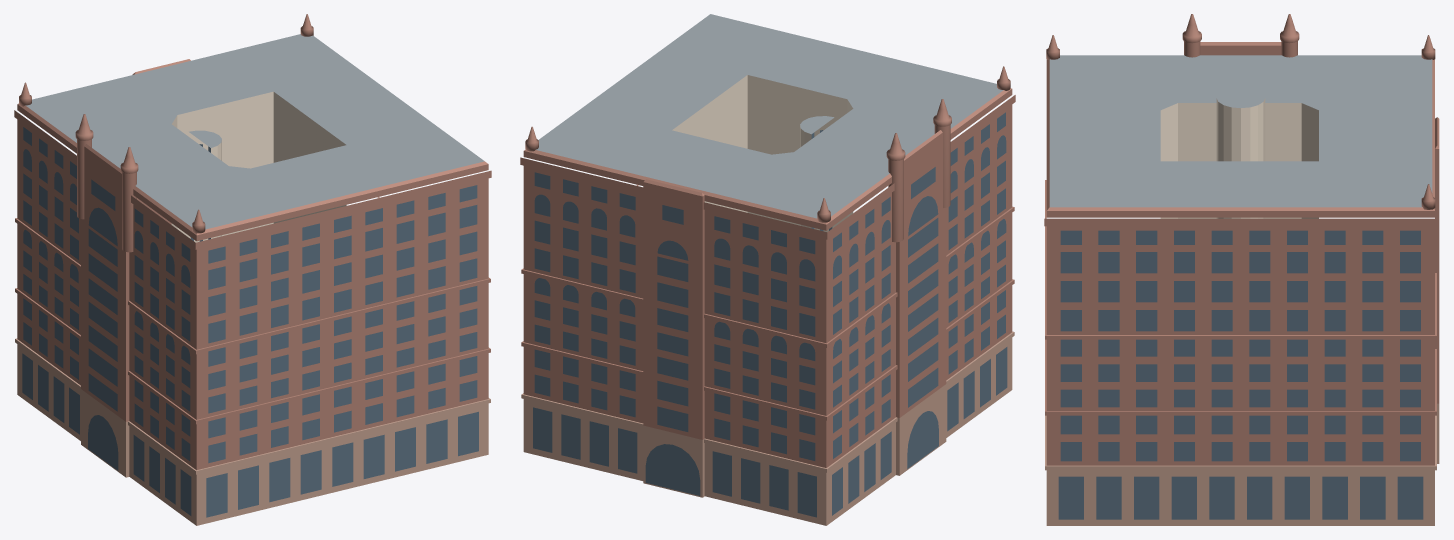
File: chi-rookery.glb
The picture shows the model from 3 angles, left to right: view 1: azimuth 30°, elevation 25°; view 2: azimuth 150°, elevation 25°; view 3: azimuth 270°, elevation 25°; orthographic projection. The views are drawn at different scales.
Visible parts, largest first — view 1: The Rookery; view 2: The Rookery; view 3: The Rookery.
Part boxes in pixels (<box>): The Rookery: <box>14,14,491,525</box>; The Rookery: <box>520,14,1015,525</box>; The Rookery: <box>1044,14,1439,525</box>.
Bounding box in the file's own units: 52.7 × 55 × 55.2.
